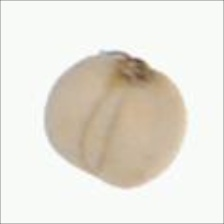L5: (79, 74, 129, 176), (101, 48, 166, 93)
L6: (42, 48, 190, 192)
